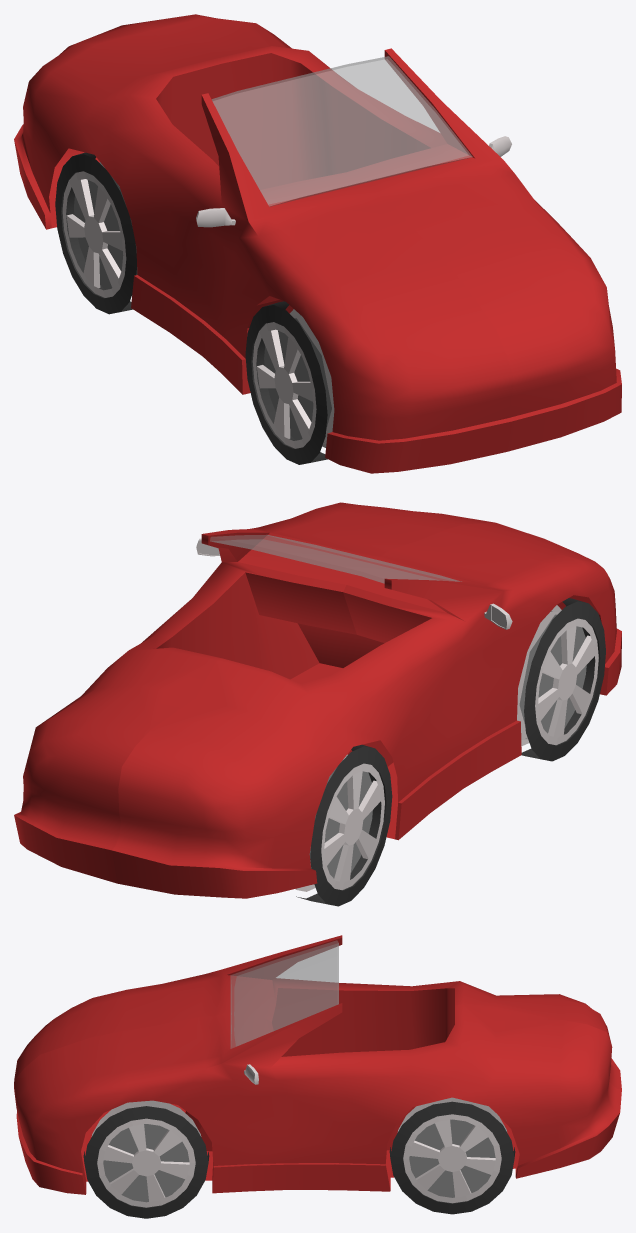
Rendered from car3.fbx.
3 renders of one model, top to bottom at view 1: azimuth 30°, elevation 25°; view 2: azimuth 150°, elevation 25°; view 3: azimuth 270°, elevation 25°, orthographic. The views are drawn at different scales.
Parts seen in each view (by area): view 1: polySurface107, polySurface139, polySurface137; view 2: polySurface107, polySurface139, polySurface137; view 3: polySurface107, polySurface138, polySurface136.
Part boxes in pixels (left/top/right/bottom): polySurface107: left=14, top=14, right=621, bottom=473; polySurface139: left=245, top=301, right=334, bottom=464; polySurface137: left=55, top=152, right=137, bottom=314; polySurface107: left=14, top=502, right=621, bottom=898; polySurface139: left=517, top=598, right=605, bottom=761; polySurface137: left=295, top=744, right=392, bottom=906; polySurface107: left=14, top=935, right=621, bottom=1194; polySurface138: left=83, top=1100, right=209, bottom=1218; polySurface136: left=389, top=1097, right=515, bottom=1214.
Size of the model in its own units: 3.43 by 2.7 by 7.55.
